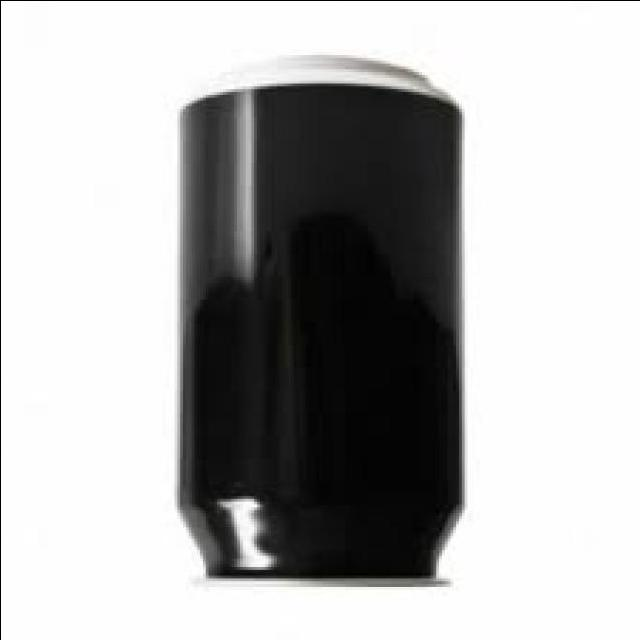can: (157, 46, 470, 597)
